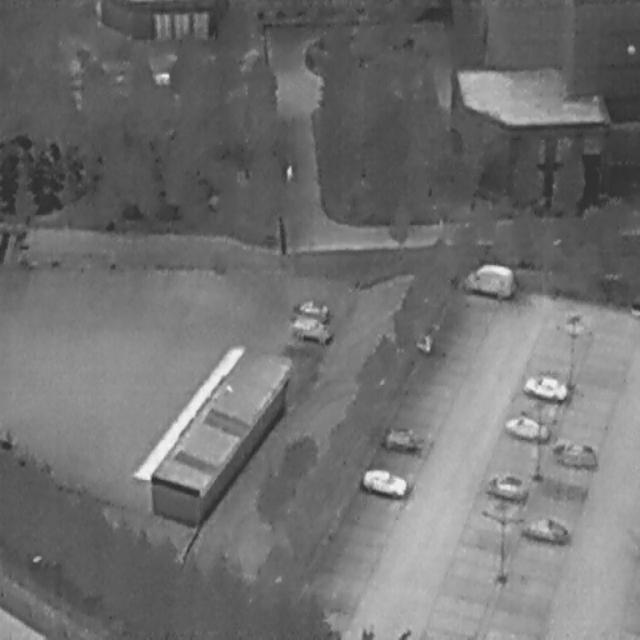Car: (463, 259, 514, 299), (519, 510, 570, 549), (502, 406, 551, 446), (288, 309, 335, 349), (359, 462, 405, 498), (486, 464, 527, 504), (522, 367, 566, 402)
